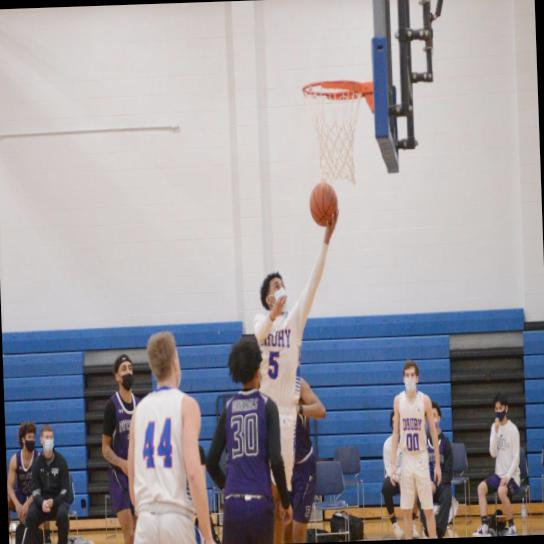basketball-hoop: (298, 75, 366, 186)
